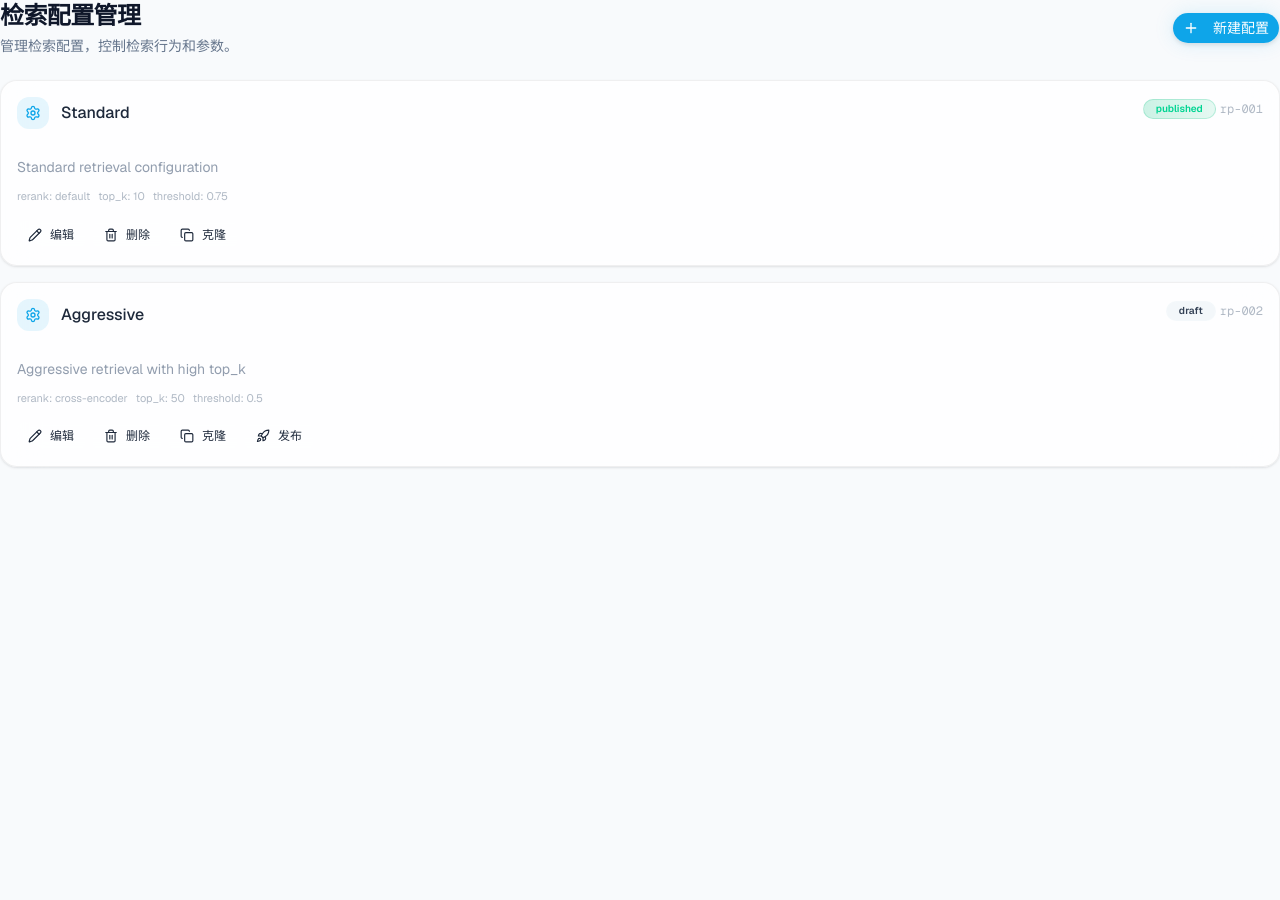
Test: RetrievalProfilesPage › Edit Profile › opens edit dialog with prefilled data
Expected: the text "Standard" is shown, top-left (61, 101), bottom-right (130, 125)
Click the button "编辑" below "default".
click(51, 235)  # box top-left (17, 221), bottom-right (85, 249)
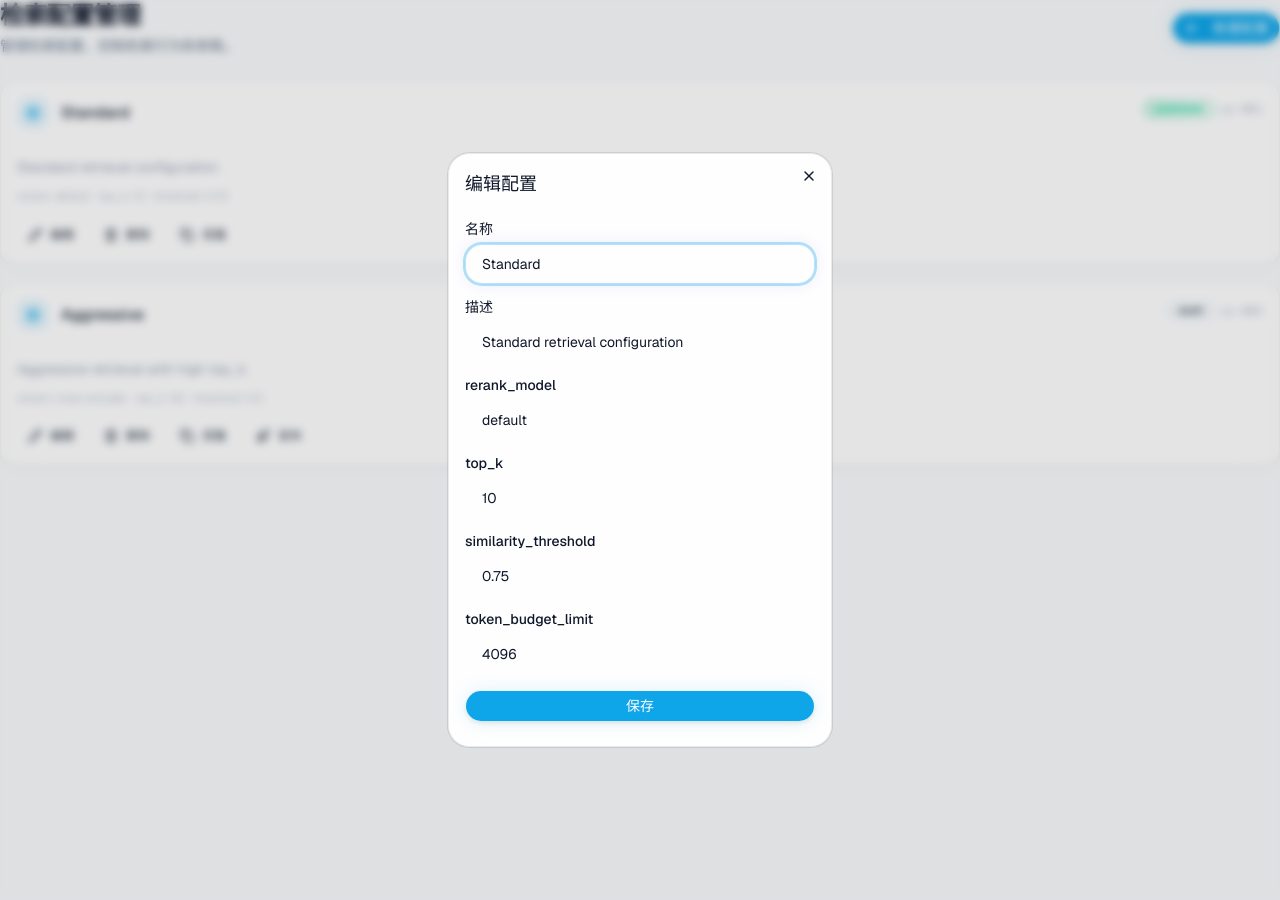
Expected: the dialog with test id "edit-profile-dialog" is shown, top-left (448, 153), bottom-right (832, 747)
Expected: the field showing "Standard" is shown, top-left (465, 244), bottom-right (815, 284)
Expected: the field showing "Standard retrieval configuration" is shown, top-left (465, 322), bottom-right (815, 362)
